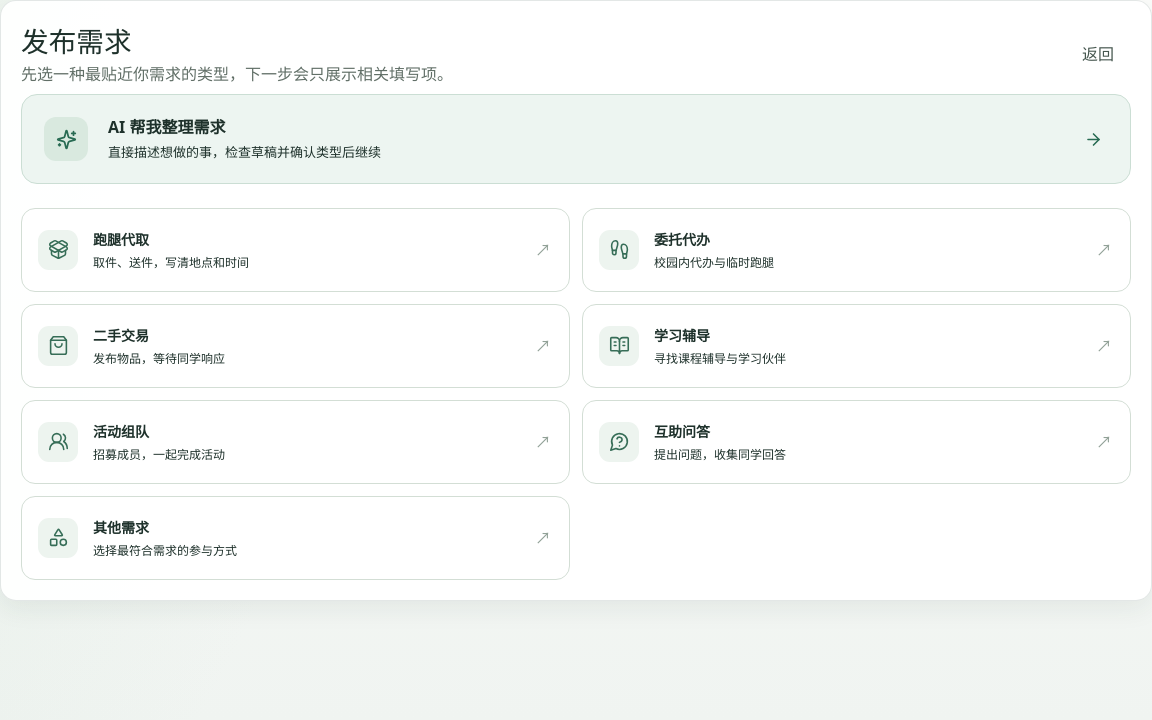
Test case: DemandPublishView - 发布入口与 AI 草稿 › OTHER 不允许 AI 的 HELP 参与方式，要求用户补选合法方式
Click the button with test id "ai-publish-entry" at (66, 139), box [21,94,1131,184]
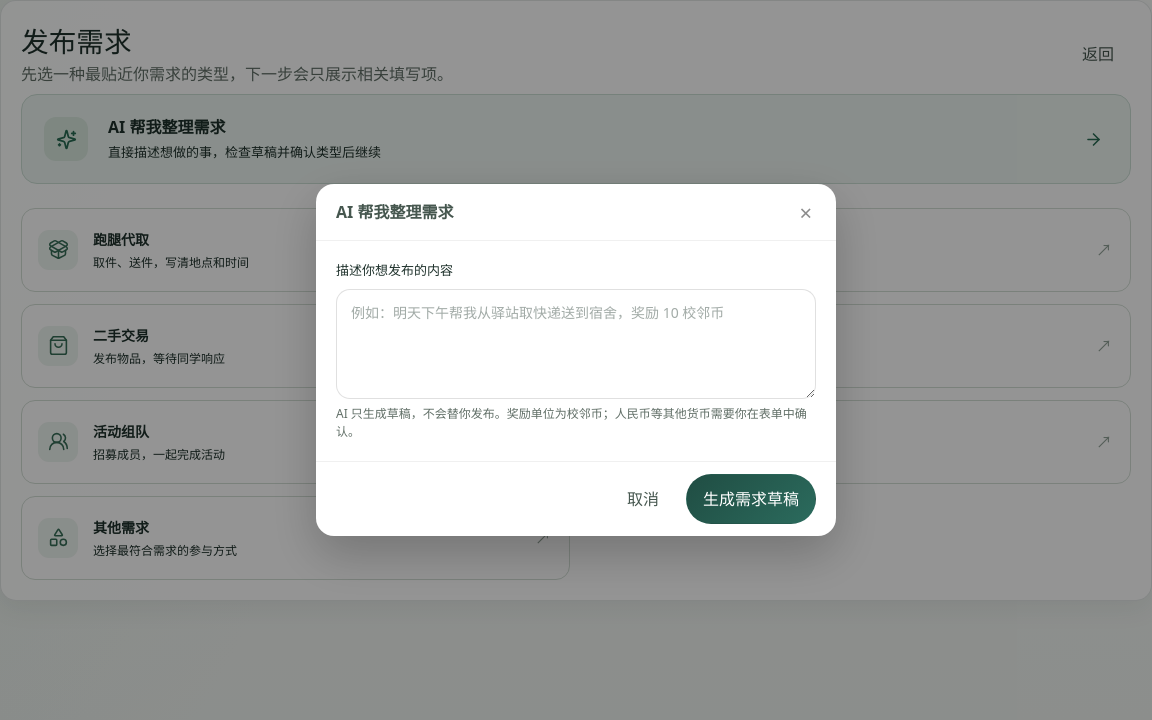
Type "其他需求" into the text box with test id "ai-prompt-input" at (576, 344), box [336,289,816,399]
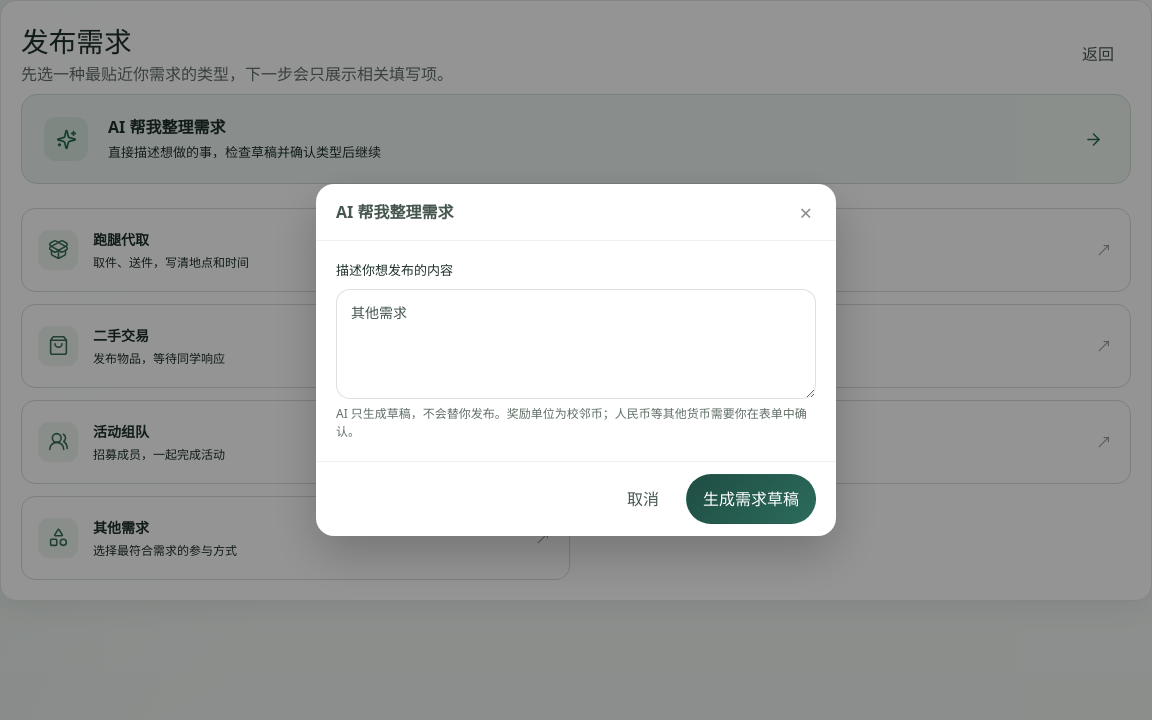
Click the button with test id "ai-generate-button" at (751, 499), box [686,474,816,524]
(page scrolled)
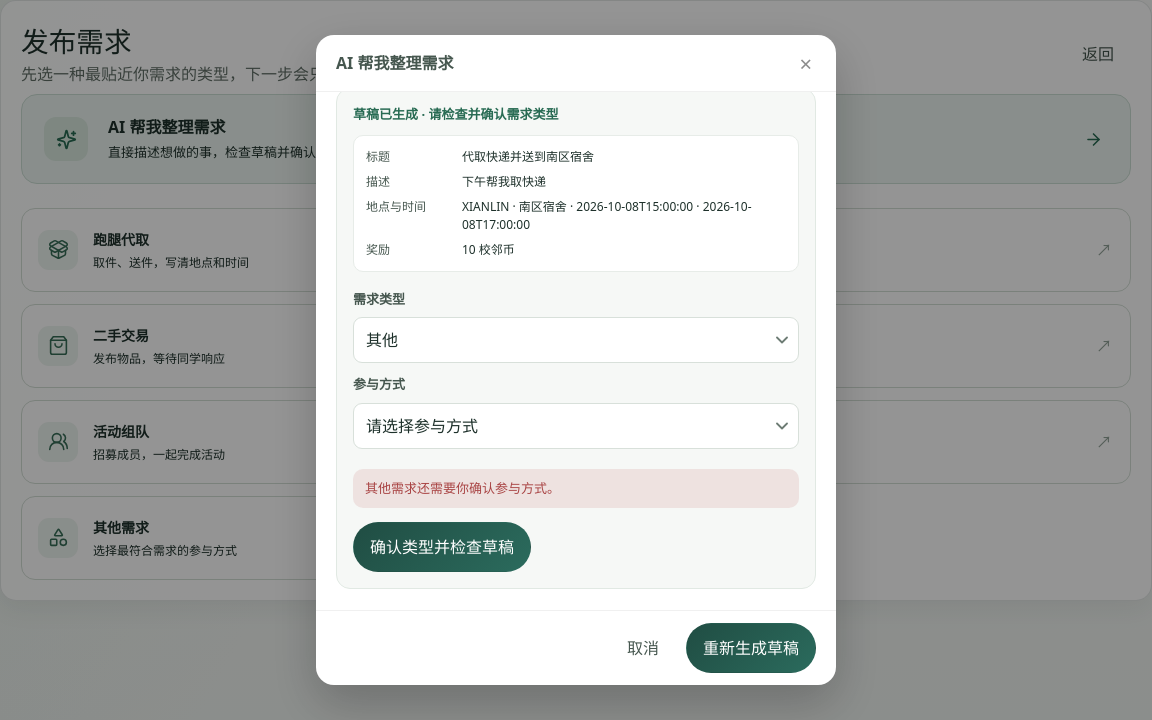
Expected: the text with test id "ai-candidate-issue" shows "参与方式", [365,479,560,497]
Click the button with test id "ai-type-confirm" at (442, 547), box [353,522,531,572]
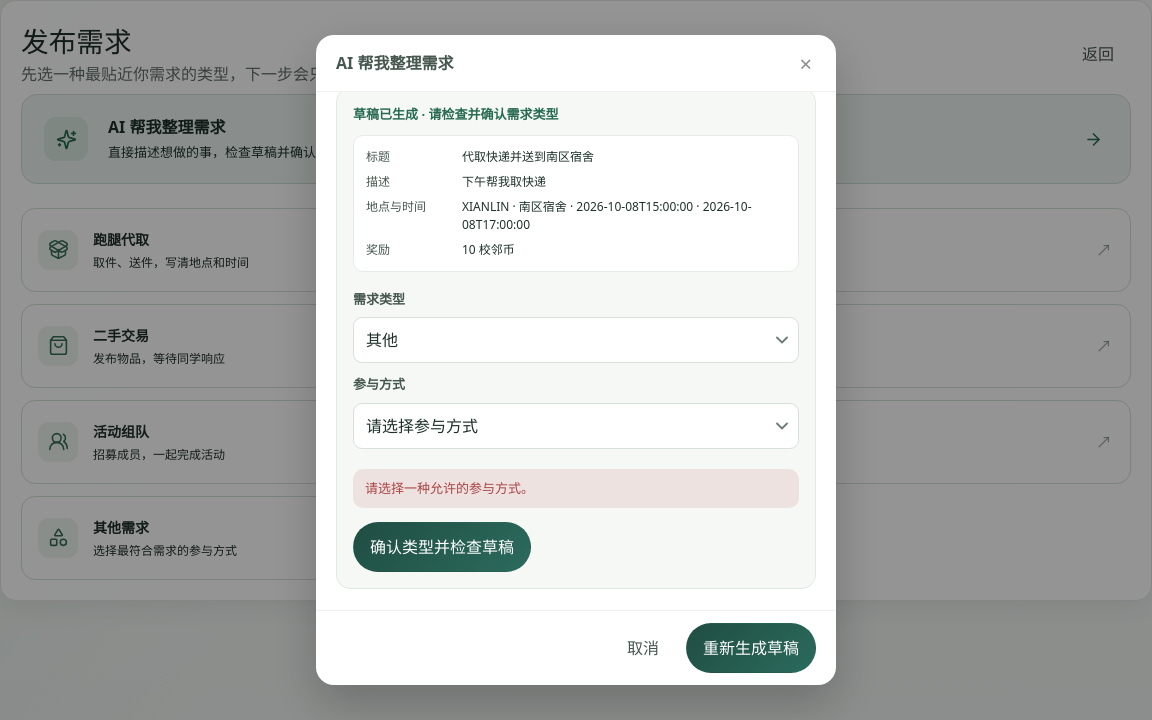
Select "选择一人" in the dropdown with id "ai-mode-confirm" at (576, 426), box [353,403,799,449]
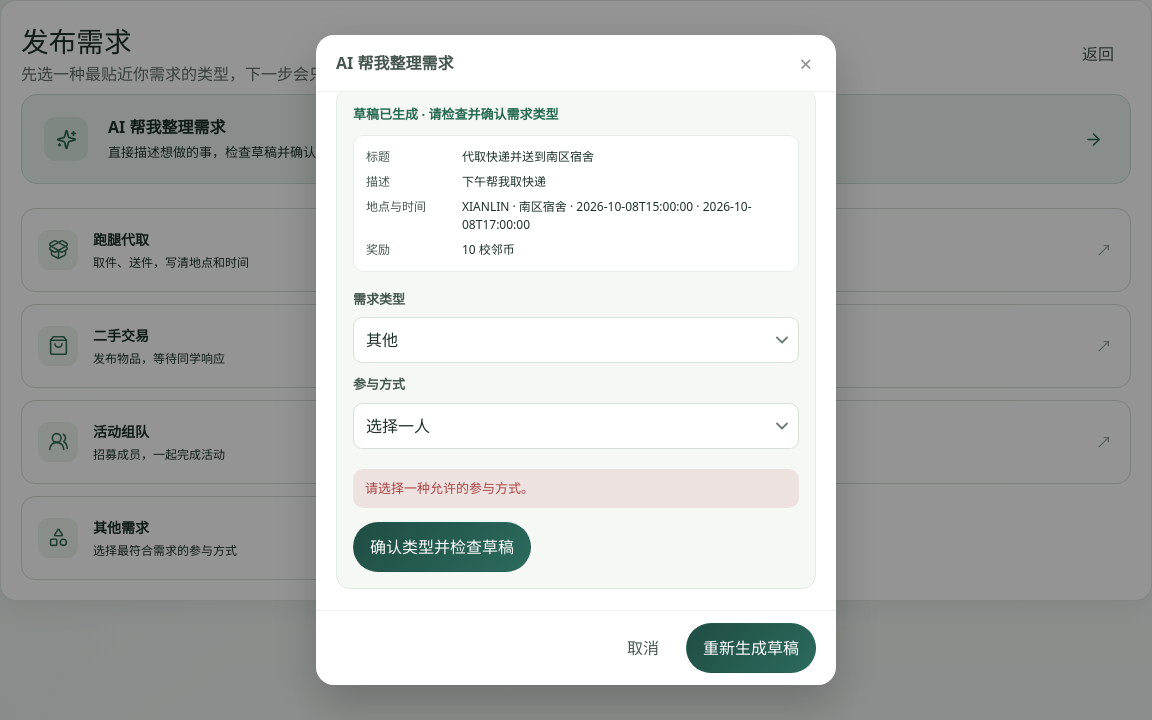
Click the button with test id "ai-type-confirm" at (442, 547), box [353,522,531,572]
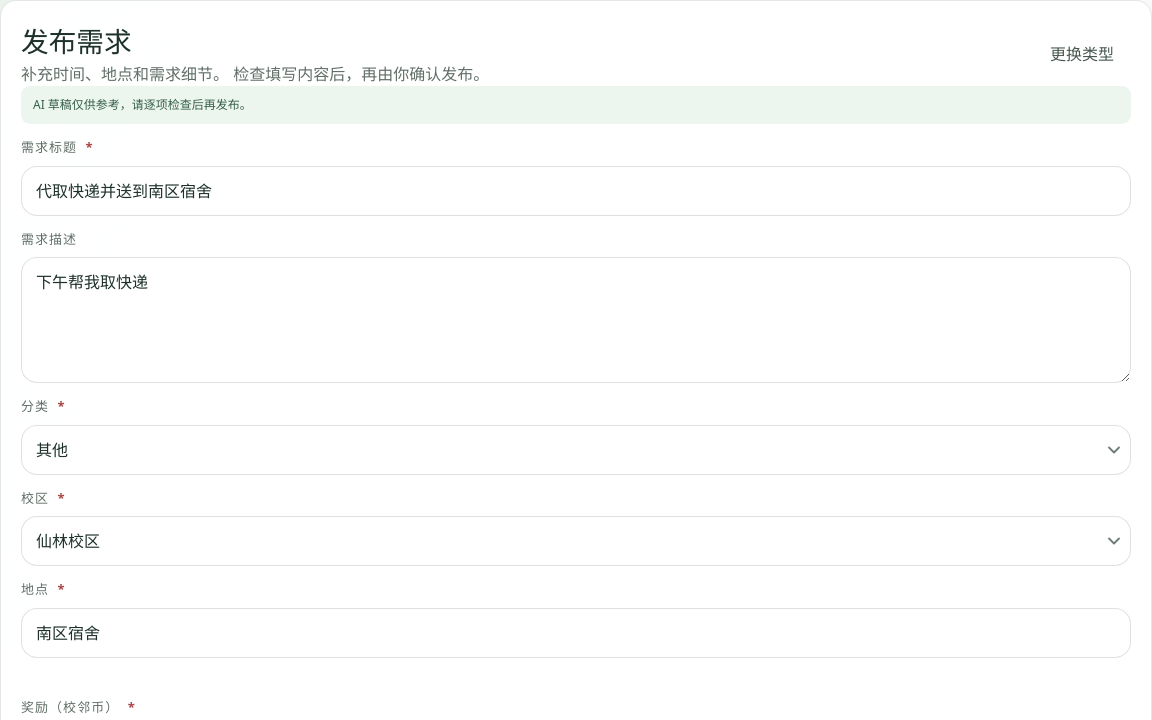
Expected: the field with id "demand-title" is shown, [21,166,1131,216]
